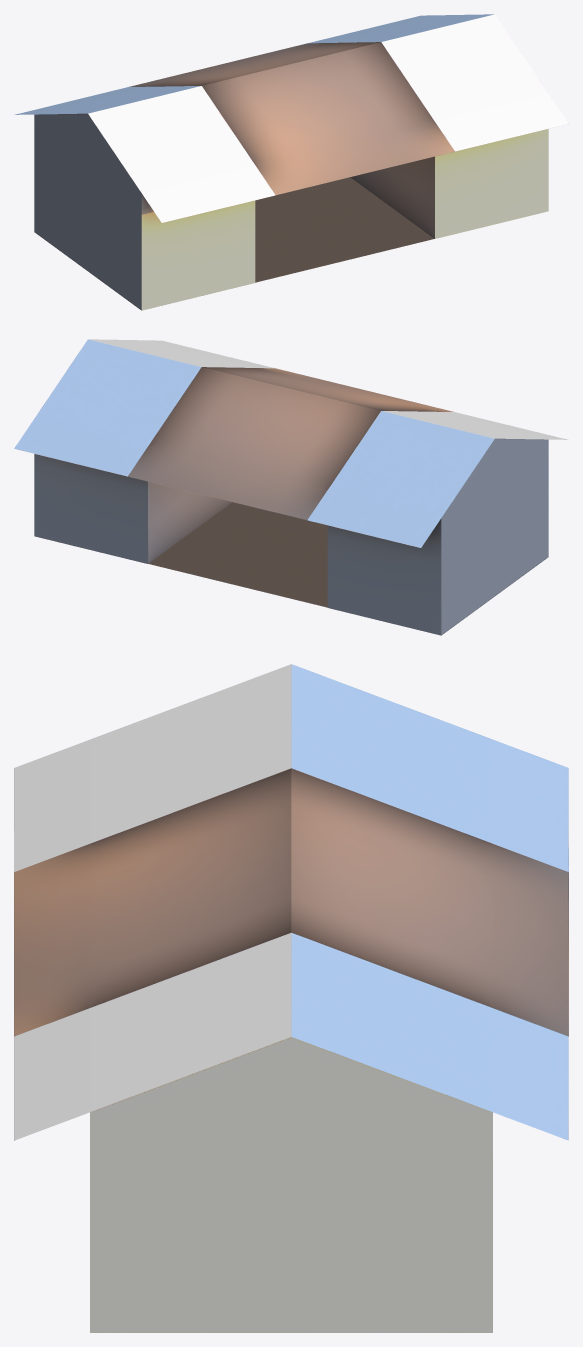
The model's file is entrance2alone.glb.
3 renders of one model, top to bottom at view 1: azimuth 30°, elevation 25°; view 2: azimuth 150°, elevation 25°; view 3: azimuth 270°, elevation 25°, orthographic. The views are drawn at different scales.
Parts seen in each view (by area): view 1: Cube.002 ANIME; view 2: Cube.002 ANIME; view 3: Cube.002 ANIME.
Boxes of the visible parts, x1,y1,x2,y2 form: Cube.002 ANIME: (14,14,568,310); Cube.002 ANIME: (14,339,568,635); Cube.002 ANIME: (14,664,568,1332).
Size of the model in its own units: 10.21 by 3.78 by 6.42.
1 material, 1 textured.
